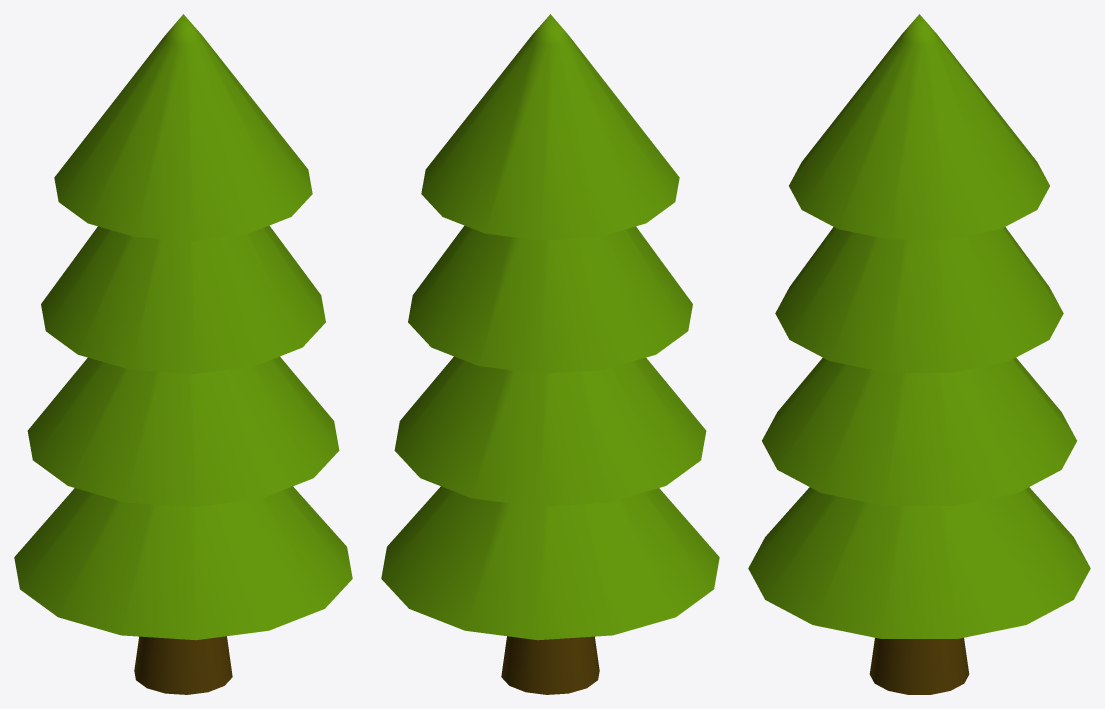
Rendered from Small_Tree2.fbx.
3 views of the same model, side by side, from view 1: azimuth 30°, elevation 25°; view 2: azimuth 150°, elevation 25°; view 3: azimuth 270°, elevation 25° (orthographic).
Visible parts, largest first — view 1: Small_Tree.002; view 2: Small_Tree.002; view 3: Small_Tree.002.
Part boxes in pixels (x1=…): Small_Tree.002: x1=14, y1=14, x2=352, y2=694; Small_Tree.002: x1=381, y1=14, x2=719, y2=694; Small_Tree.002: x1=748, y1=14, x2=1090, y2=694.
Bounding box in the file's own units: 143 × 311 × 146.
